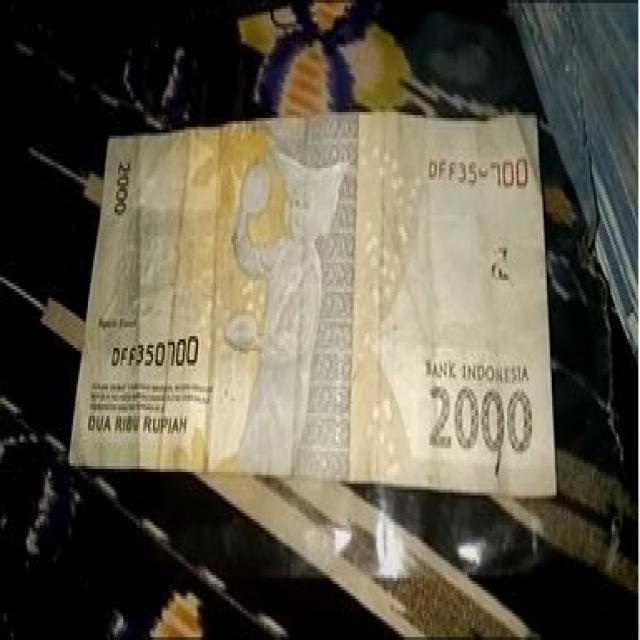dua ribu rupiah: (110, 138, 555, 486)
